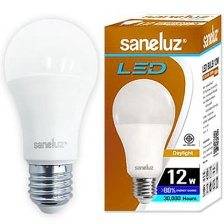carton: (99, 8, 224, 215)
light_bulb: (1, 14, 101, 216)
